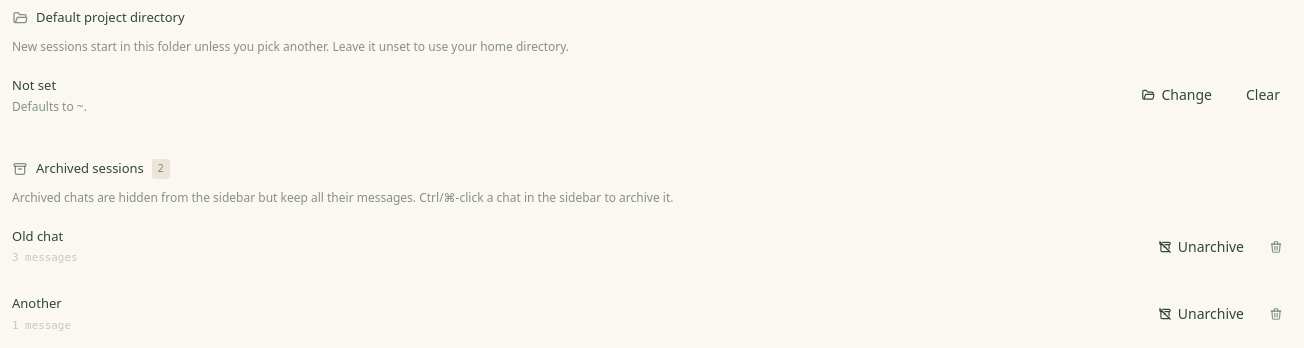
Test: ArchivedSection › unarchives a session and removes it from the list
The image size is (1304, 348).
Expected: the text "Old chat" is shown, [12,227,63,245]
Click the button "Unarchive" in the row of "3 messages" at [1201, 246], box [1148,230,1254,262]
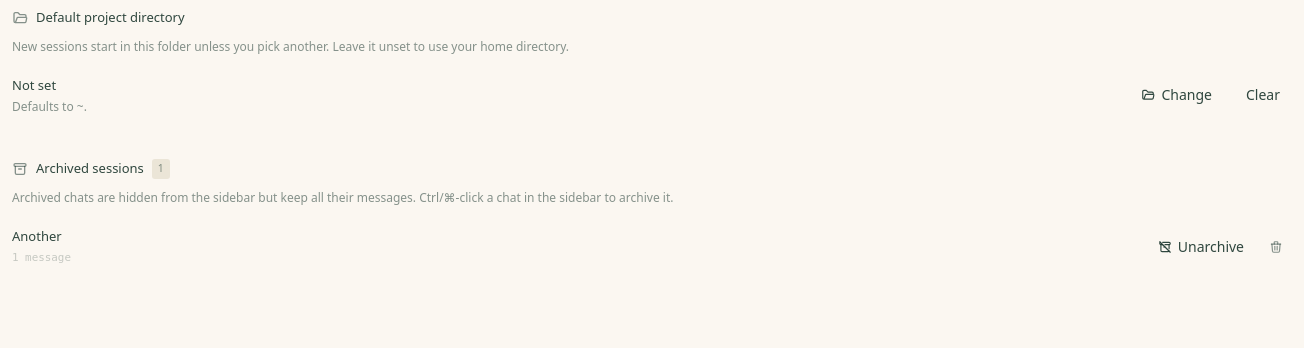
Expected: the text "Old chat" is gone
